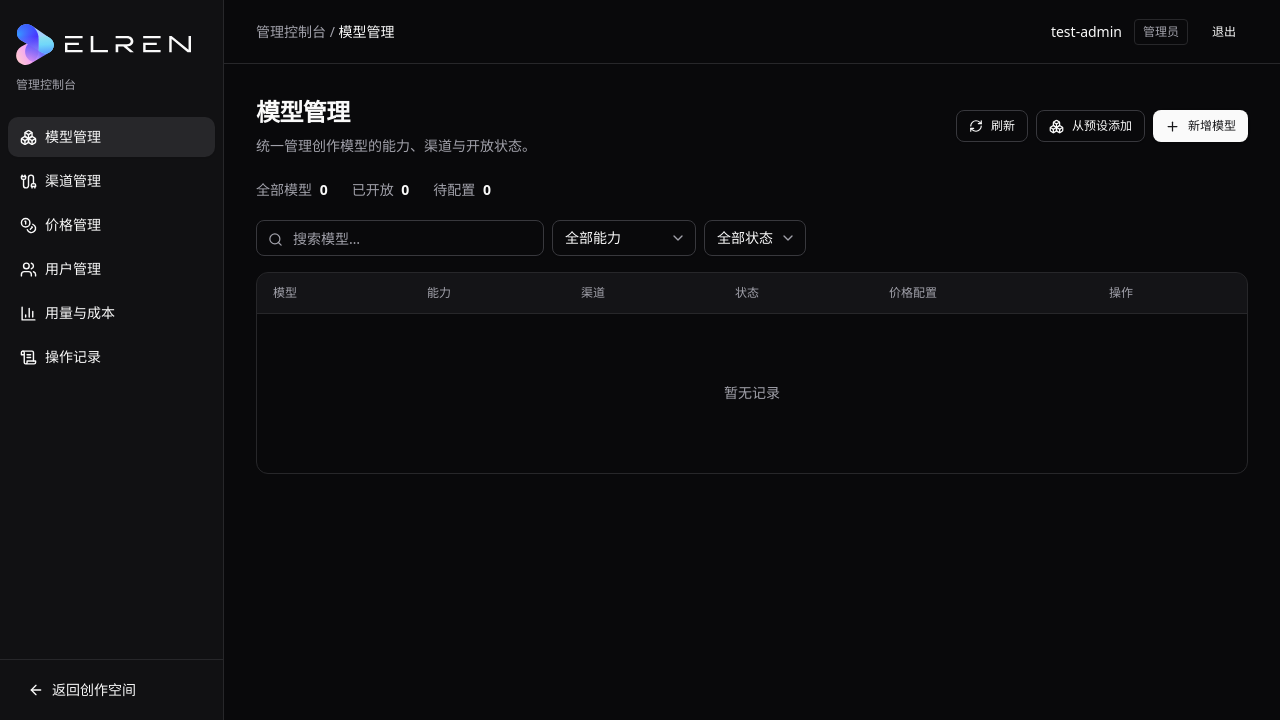
preset catalog is loaded only after explicit administrator action
The width and height of the screenshot is (1280, 720).
Expected: the text "暂无记录" is shown, [257, 313, 1247, 473]
Step 1. Click the button "从预设添加" → (1090, 126), box [1036, 110, 1145, 142]
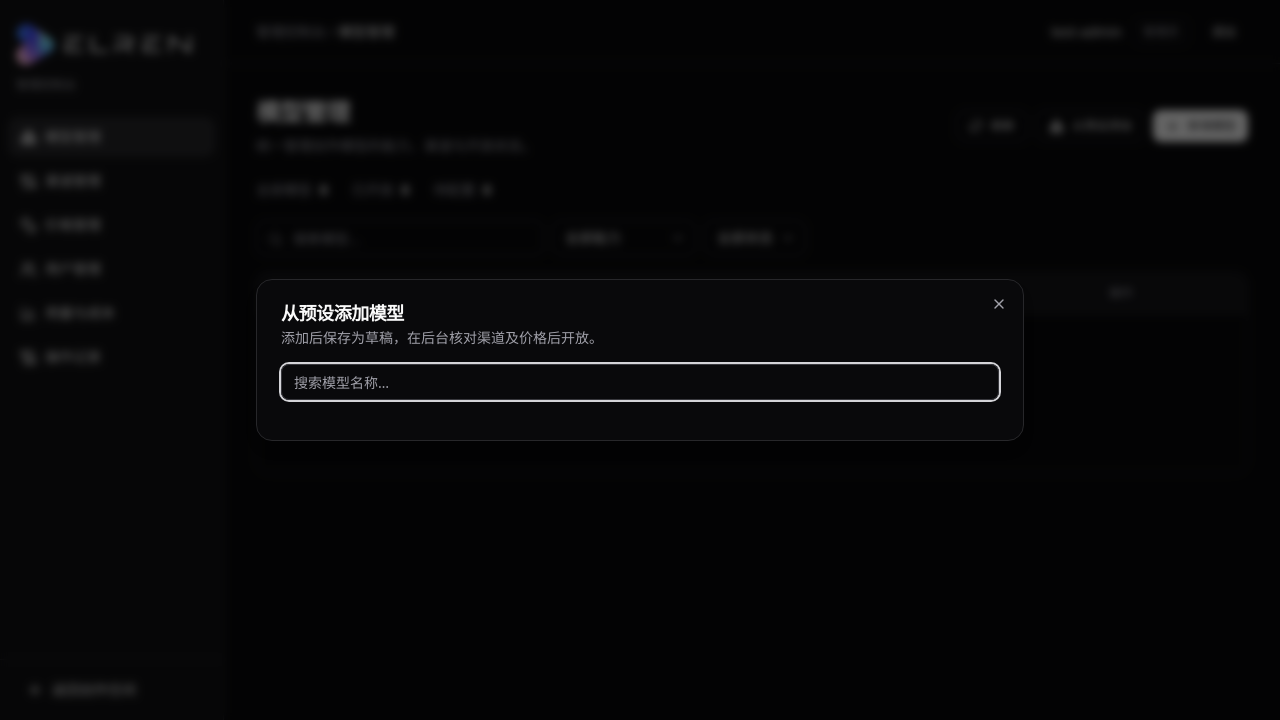
Expected: the dialog is shown, [256, 279, 1024, 441]
